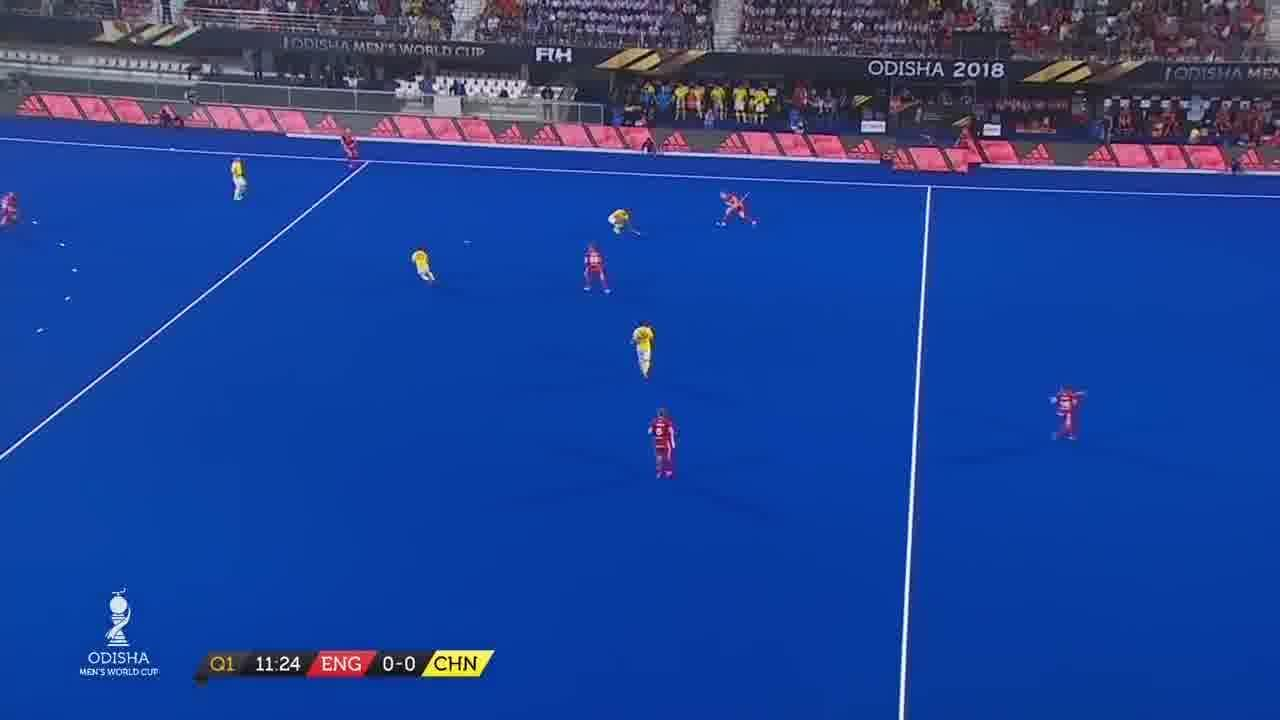ball: (458, 232, 478, 253)
